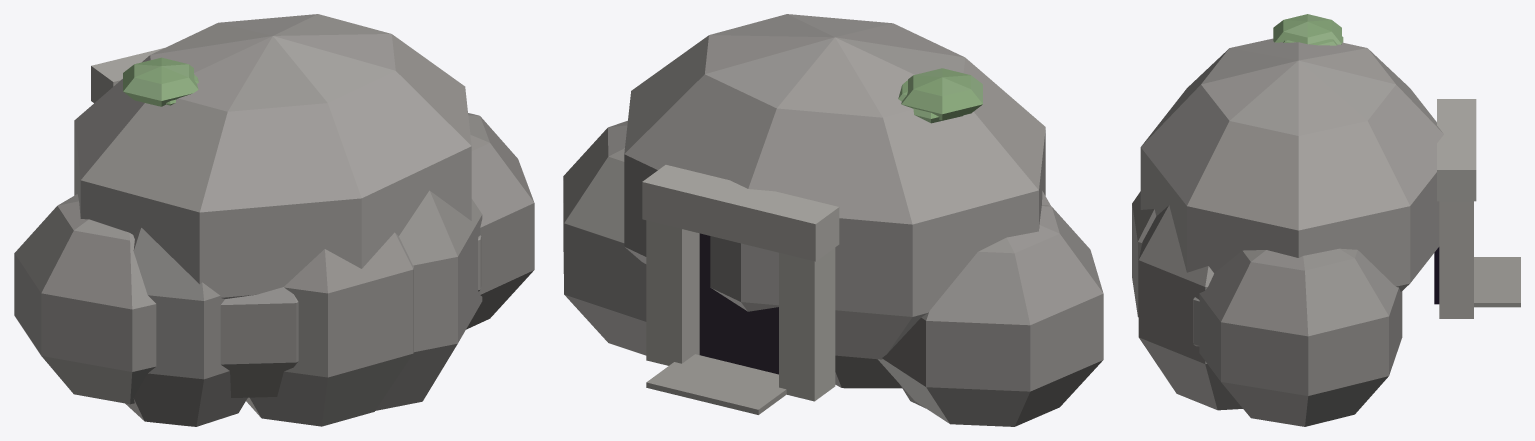
The model's file is dungeon_entrance.glb.
3 renders of one model, left to right at view 1: azimuth 30°, elevation 25°; view 2: azimuth 150°, elevation 25°; view 3: azimuth 270°, elevation 25°, orthographic. The views are drawn at different scales.
Visible parts, largest first — view 1: dungeon_entrance2; view 2: dungeon_entrance2; view 3: dungeon_entrance2.
Boxes of the visible parts, left/top/right/bottom form: dungeon_entrance2: left=14, top=14, right=534, bottom=426; dungeon_entrance2: left=563, top=14, right=1103, bottom=426; dungeon_entrance2: left=1132, top=14, right=1520, bottom=426.
Size of the model in its own units: 10.24 by 7.19 by 7.87.
